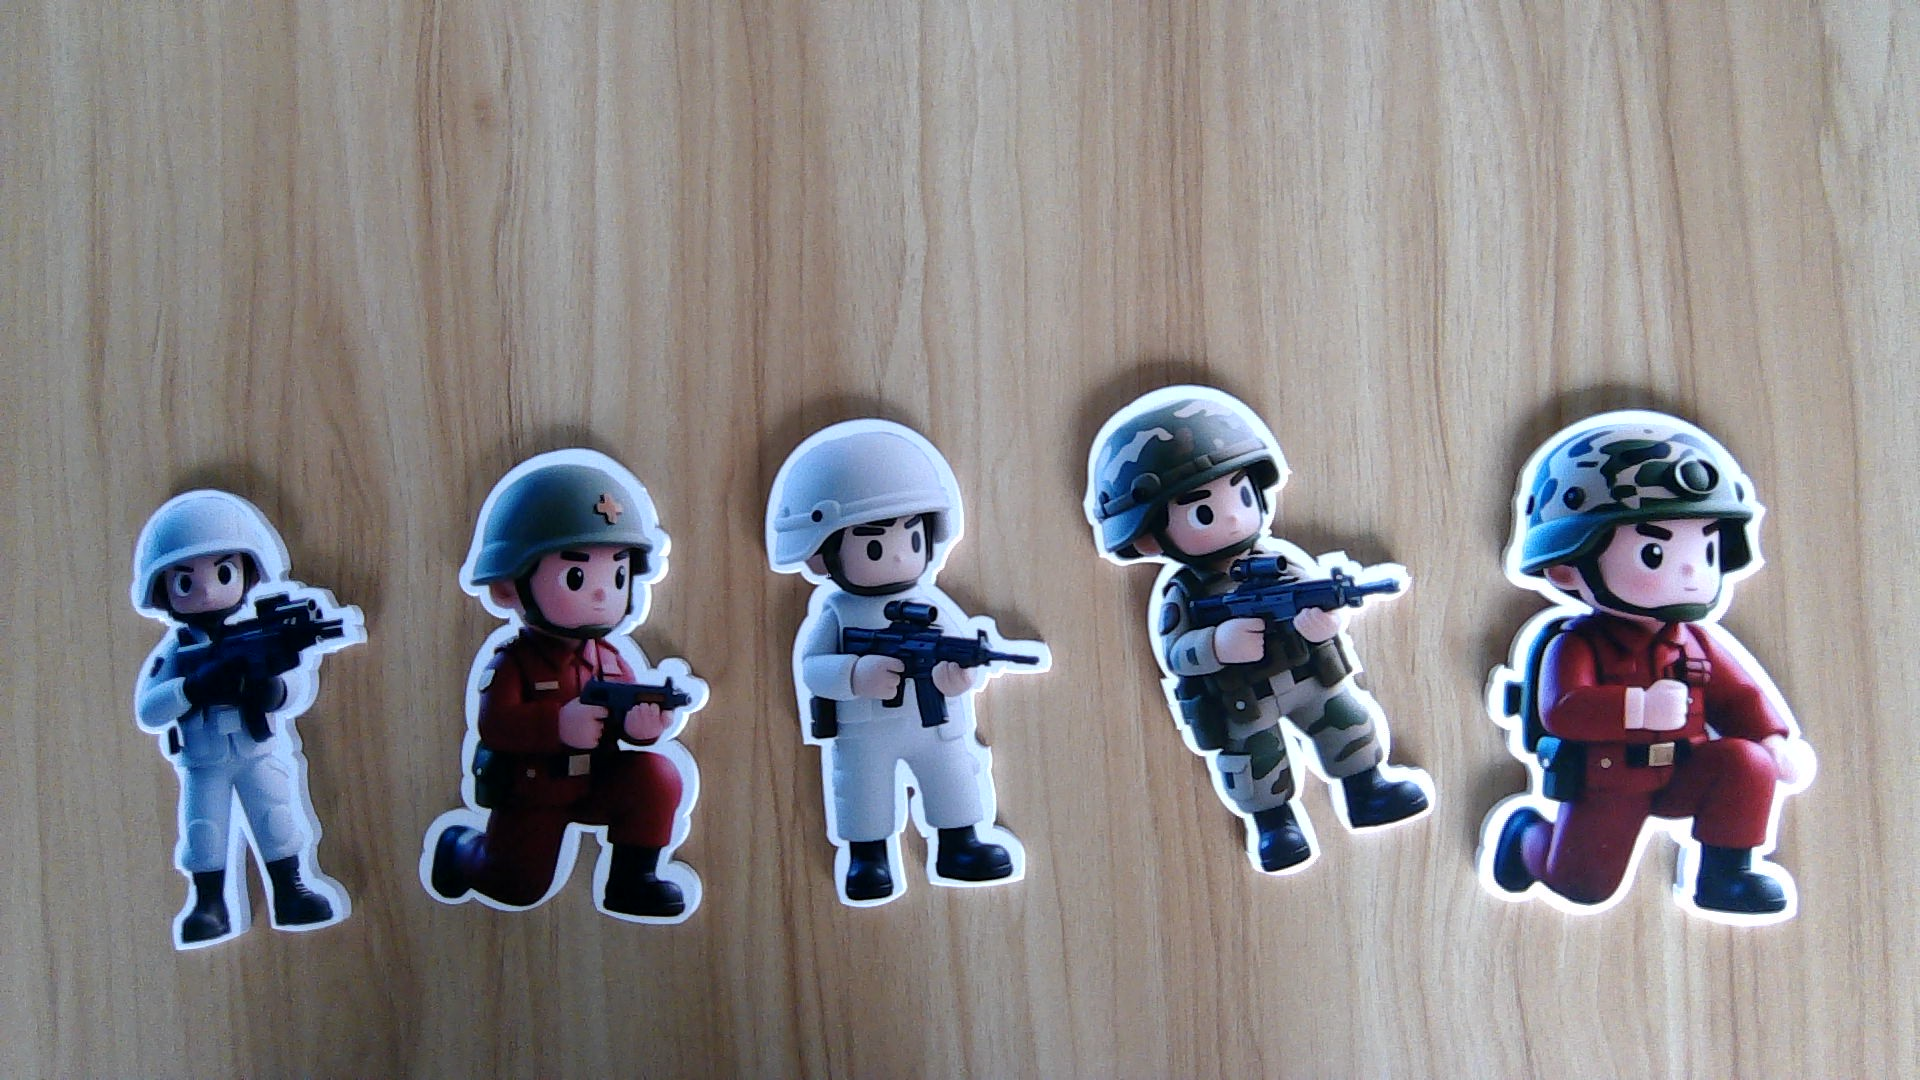人质: (789, 600, 1055, 906), (131, 621, 371, 951)
友军: (1139, 564, 1443, 873)
敌人1: (1478, 618, 1815, 930), (410, 640, 713, 924)
